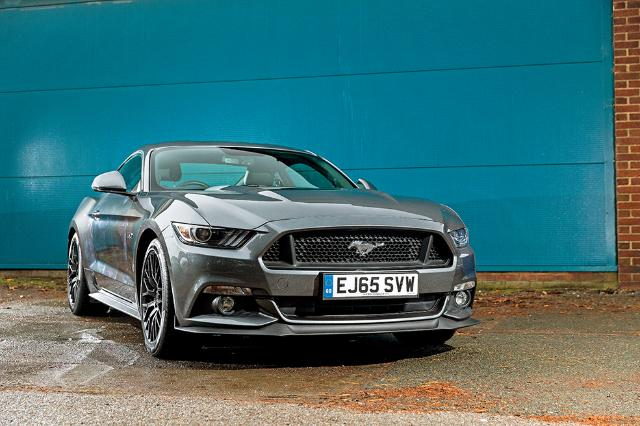ford-mustang: (66, 142, 478, 358)
